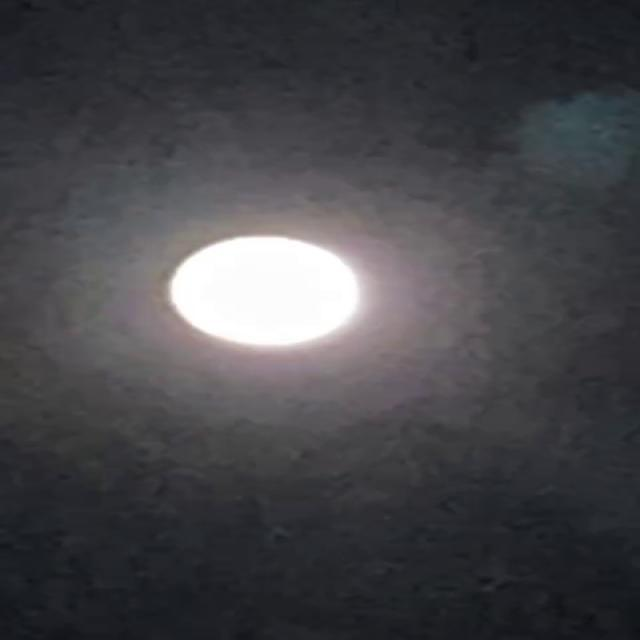moon: (144, 227, 382, 371)
